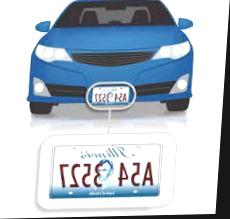License_Plate: (91, 86, 128, 104)
